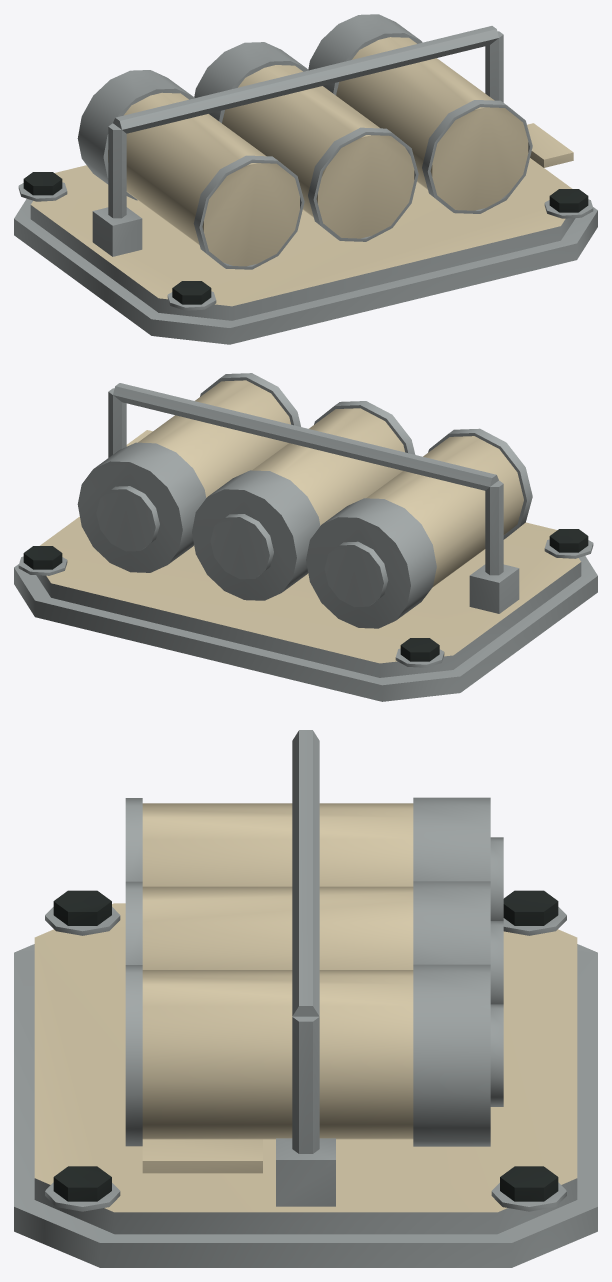
The model's file is panel_bracket.glb.
3 renders of one model, top to bottom at view 1: azimuth 30°, elevation 25°; view 2: azimuth 150°, elevation 25°; view 3: azimuth 270°, elevation 25°, orthographic. The views are drawn at different scales.
Parts seen in each view (by area): view 1: panel_bracket; view 2: panel_bracket; view 3: panel_bracket.
Boxes of the visible parts, <box> form: panel_bracket: <box>14,14,597,344</box>; panel_bracket: <box>14,373,597,701</box>; panel_bracket: <box>14,730,597,1267</box>.
Bounding box in the file's own units: 0.45 × 0.1519 × 0.34.
